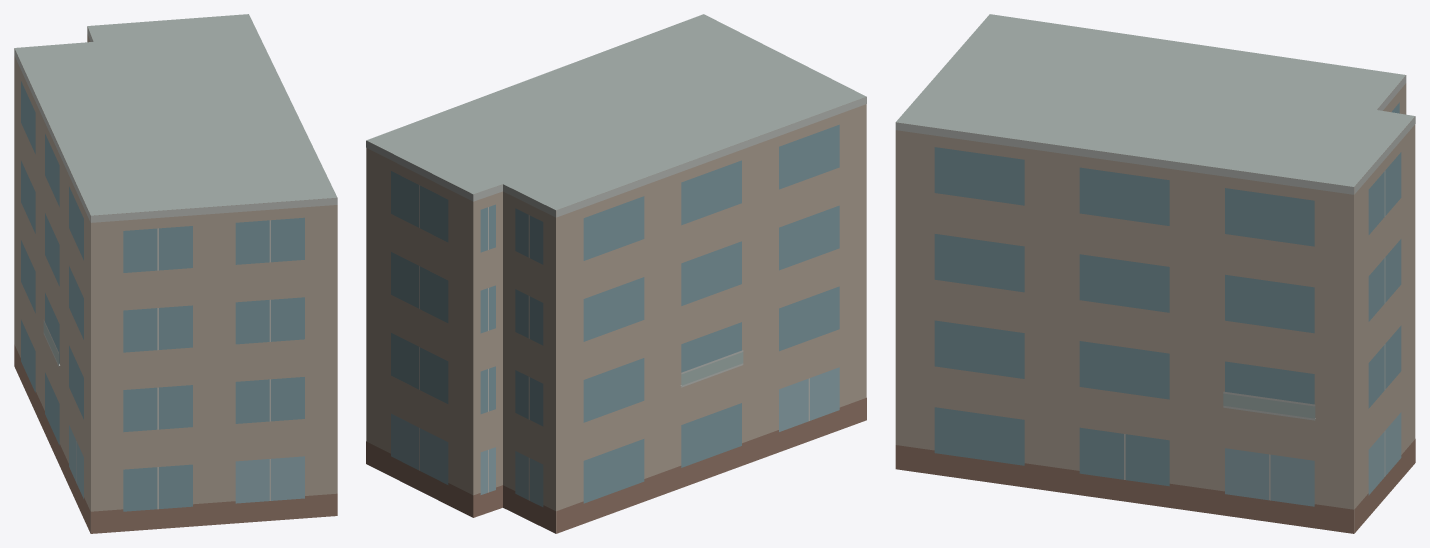
Rendered from survey-upis-32900160.glb.
The picture shows the model from 3 angles, left to right: view 1: azimuth 30°, elevation 25°; view 2: azimuth 150°, elevation 25°; view 3: azimuth 270°, elevation 25°; orthographic projection. The views are drawn at different scales.
Visible parts, largest first — view 1: survey-upis-32900160.tmp; view 2: survey-upis-32900160.tmp; view 3: survey-upis-32900160.tmp.
Part boxes in pixels (bbox=[...]): survey-upis-32900160.tmp: bbox=[14, 14, 337, 533]; survey-upis-32900160.tmp: bbox=[366, 14, 866, 533]; survey-upis-32900160.tmp: bbox=[895, 14, 1415, 533].
Bounding box in the file's own units: 11.56 × 10.8 × 14.68.
